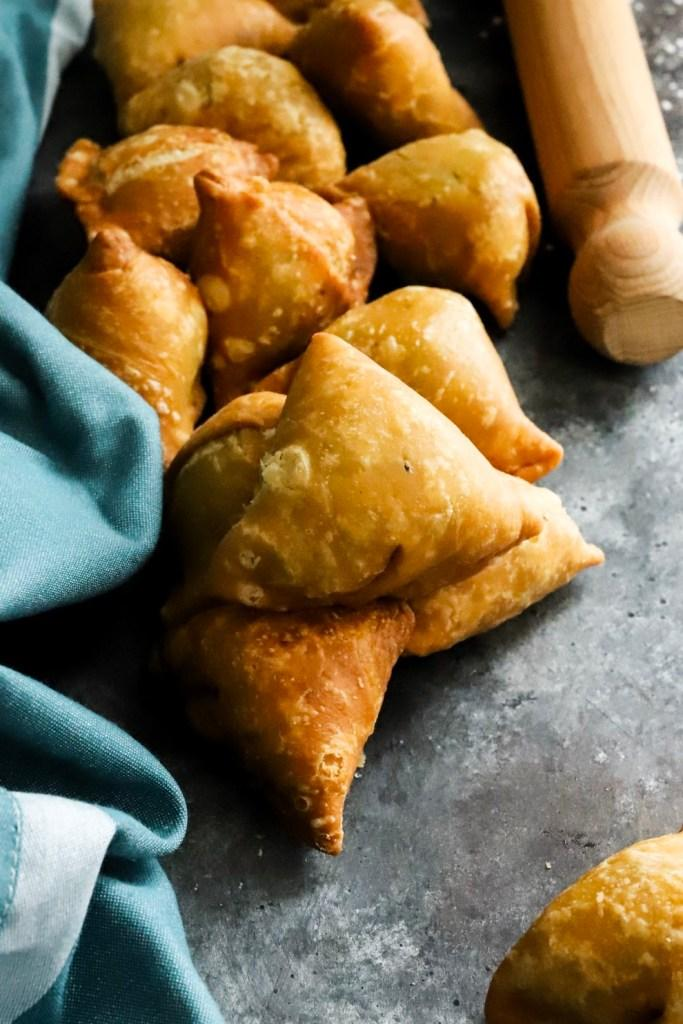samosa: (206, 334, 542, 610), (188, 172, 376, 406), (340, 128, 540, 328), (46, 226, 208, 465)
